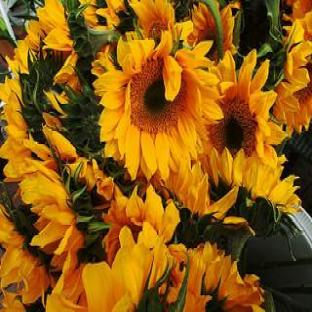sunflower: (94, 30, 223, 180)
